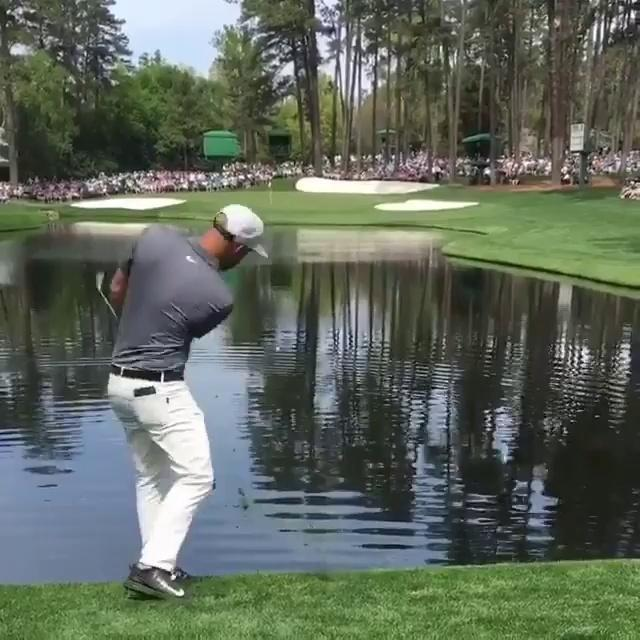ClubHead: (95, 272, 106, 294)
GolfBall: (276, 347, 280, 351)
